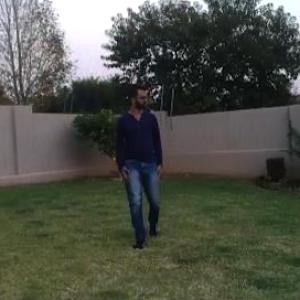follow: (116, 76, 164, 243)
